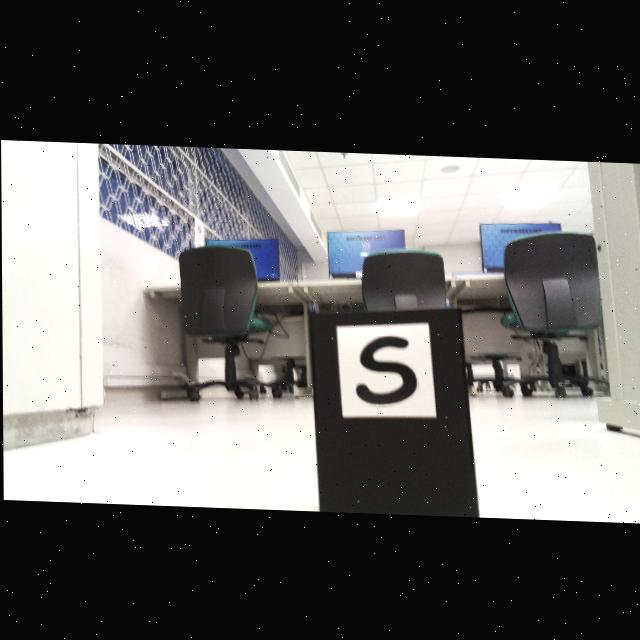S: (356, 333, 417, 403)
